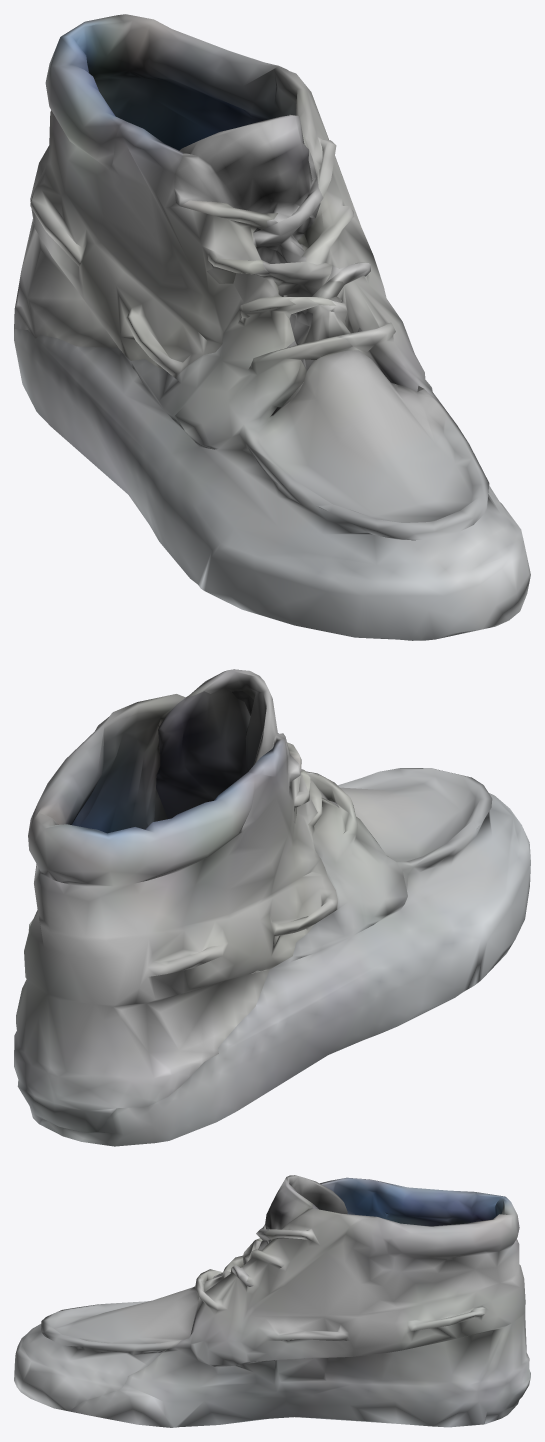
Rendered from Womens_Betty_Chukka_Boot_in_Grey_Jersey_Sequin-medium.glb.
3 renders of one model, top to bottom at view 1: azimuth 30°, elevation 25°; view 2: azimuth 150°, elevation 25°; view 3: azimuth 270°, elevation 25°, orthographic. The views are drawn at different scales.
Parts seen in each view (by area): view 1: Womens_Betty_Chukka_Boot_in_Grey_Jersey_Sequin; view 2: Womens_Betty_Chukka_Boot_in_Grey_Jersey_Sequin; view 3: Womens_Betty_Chukka_Boot_in_Grey_Jersey_Sequin.
Boxes of the visible parts, x1=… form: Womens_Betty_Chukka_Boot_in_Grey_Jersey_Sequin: x1=14, y1=14, x2=530, y2=640; Womens_Betty_Chukka_Boot_in_Grey_Jersey_Sequin: x1=14, y1=669, x2=530, y2=1146; Womens_Betty_Chukka_Boot_in_Grey_Jersey_Sequin: x1=14, y1=1175, x2=530, y2=1427.
Size of the model in its own units: 0.0915 by 0.1192 by 0.2493.
Materials: 1 (1 with a texture image).
